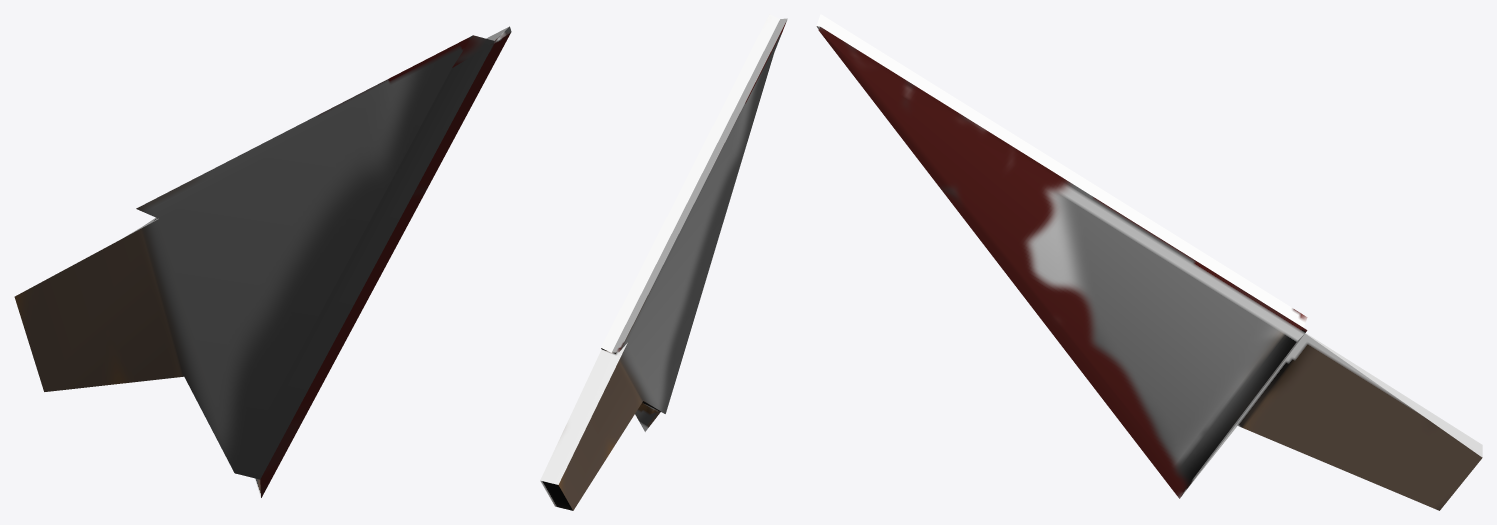
The model's file is knife.fbx.
The picture shows the model from 3 angles, left to right: view 1: azimuth 30°, elevation 25°; view 2: azimuth 150°, elevation 25°; view 3: azimuth 270°, elevation 25°; orthographic projection. The views are drawn at different scales.
Parts seen in each view (by area): view 1: Cube; view 2: Cube; view 3: Cube.
Part boxes in pixels (<box>): Cube: <box>14,26,511,498</box>; Cube: <box>540,14,787,510</box>; Cube: <box>816,14,1482,510</box>.
Size of the model in its own units: 2.84 by 45.05 by 56.2.
